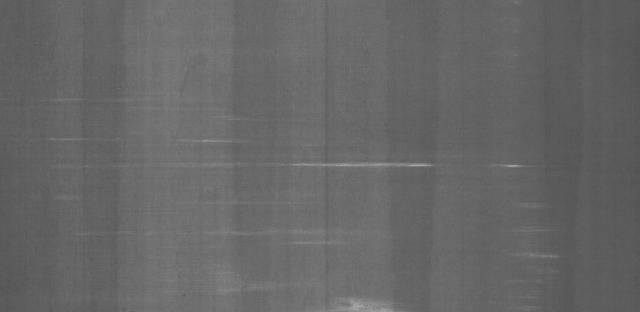waist_folding: (110, 6, 463, 251)
